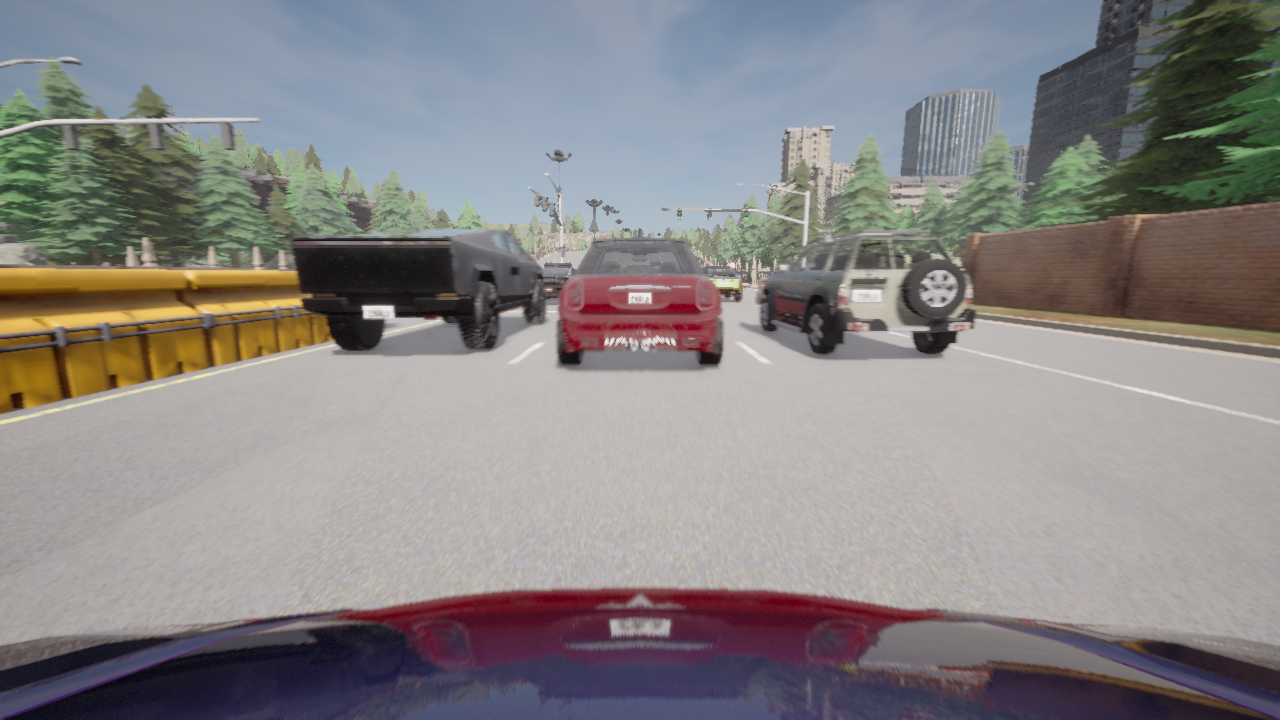cyclist: (0, 588, 1279, 719), (290, 229, 546, 350), (756, 230, 976, 355), (557, 229, 723, 365), (703, 267, 742, 301), (542, 264, 575, 299)
